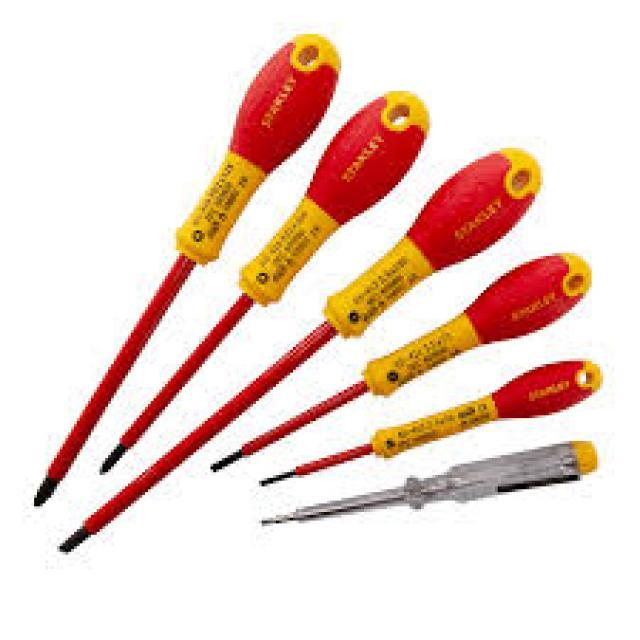screwdriver: (54, 146, 543, 556), (28, 32, 344, 510), (94, 87, 432, 480), (206, 252, 599, 479), (256, 356, 606, 490), (253, 435, 600, 529)
